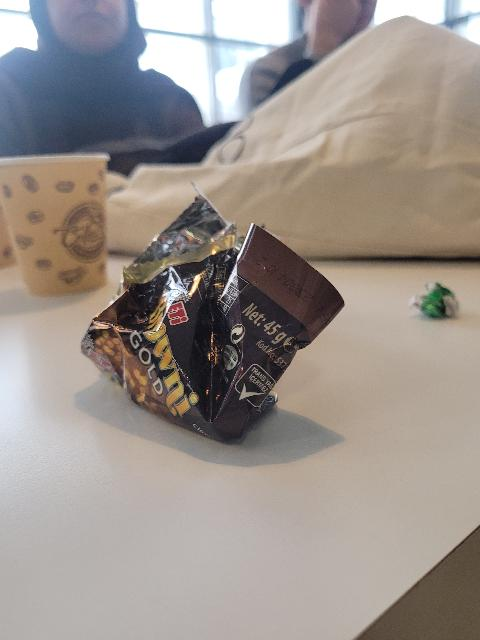Plastik: (81, 194, 344, 440)
